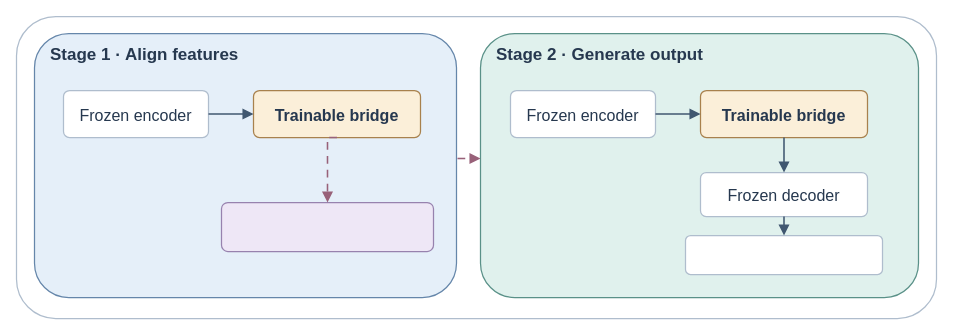
The diagram is 953 pixels wide and 335 high, and some of its shapes have lost their labels. The shapes that lost their labels are listed below. From the top down, each one's centre as x and y in pixels, then its label:
the point at 327,226: Paired feature objective
the point at 783,254: Generated response
